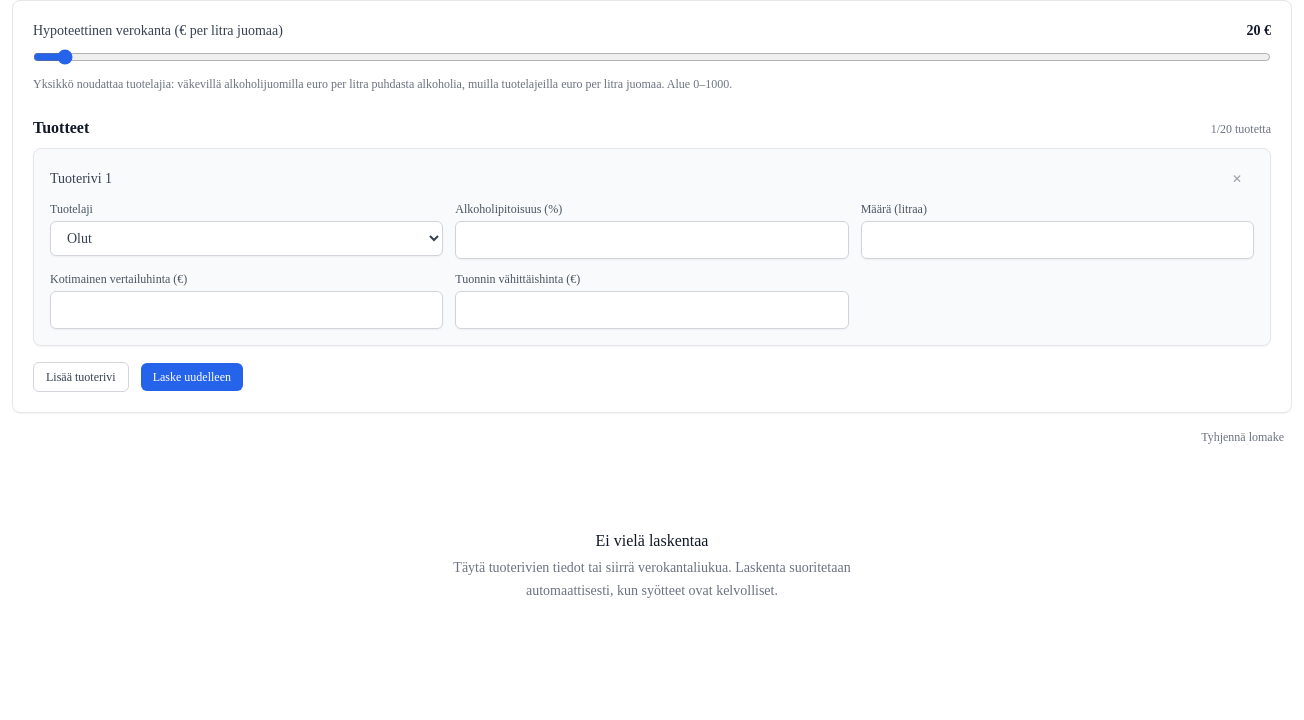
Test: WhatIfView form pass (task 4.7) › the reset affordance restores the draft to its defaults
// Drive the draft away from its defaults.
Set the slider with test id "what-if-rate-slider" to "500": {"x": 652, "y": 57} 33,49 -> 1271,65
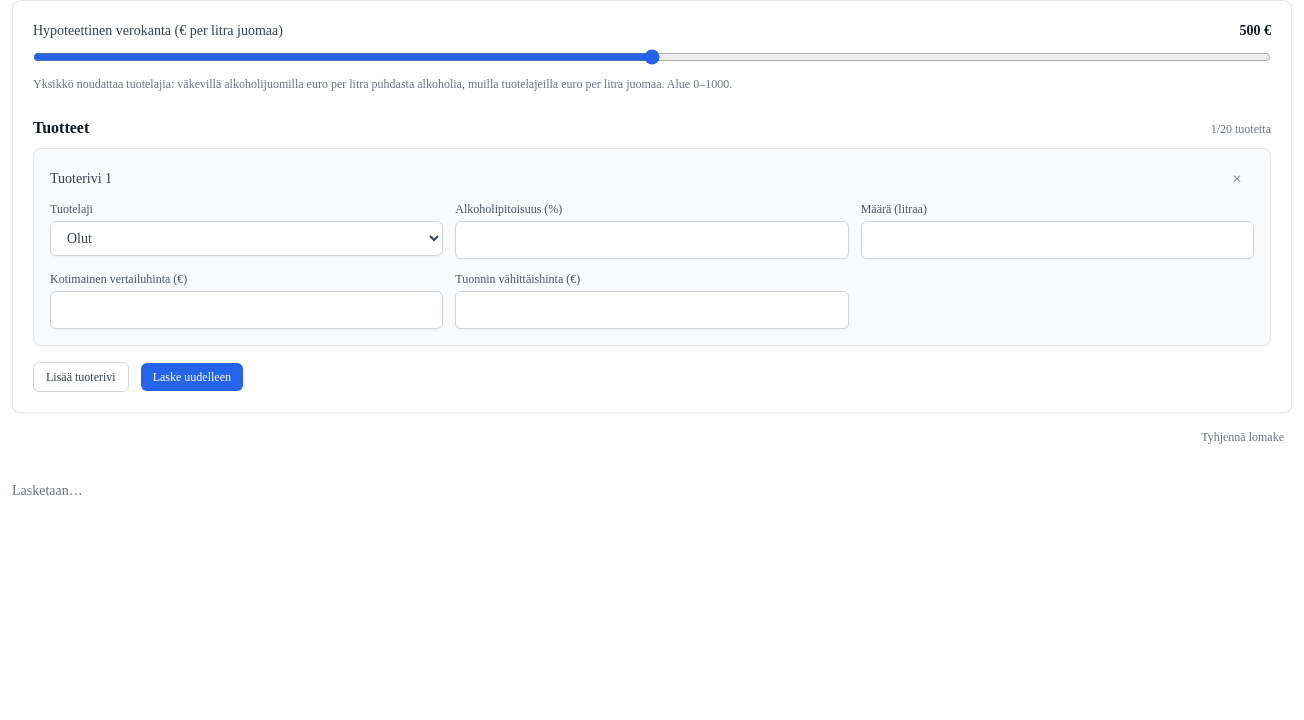
In the field labelled "Alkoholipitoisuus (%)": {"x": 652, "y": 240} 455,221 -> 849,259, type "150"
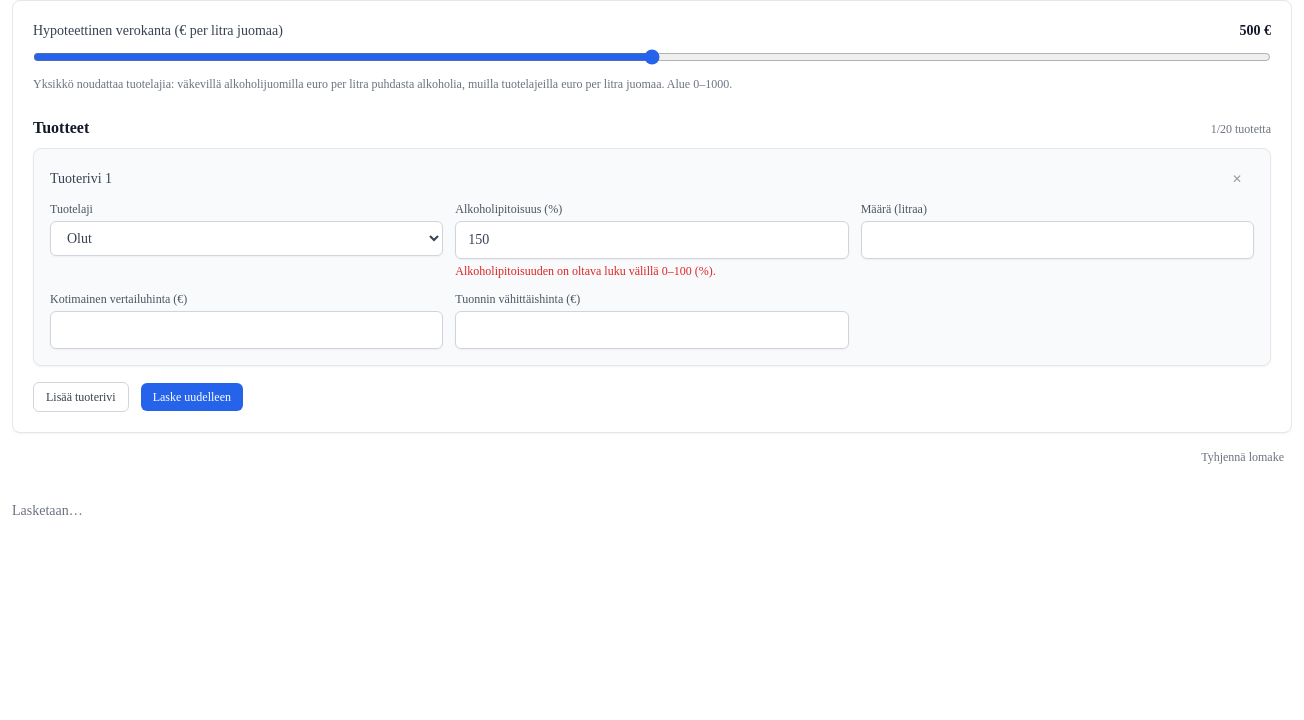
In the field labelled "Määrä (litraa)": {"x": 1057, "y": 240} 861,221 -> 1254,259, type "5"
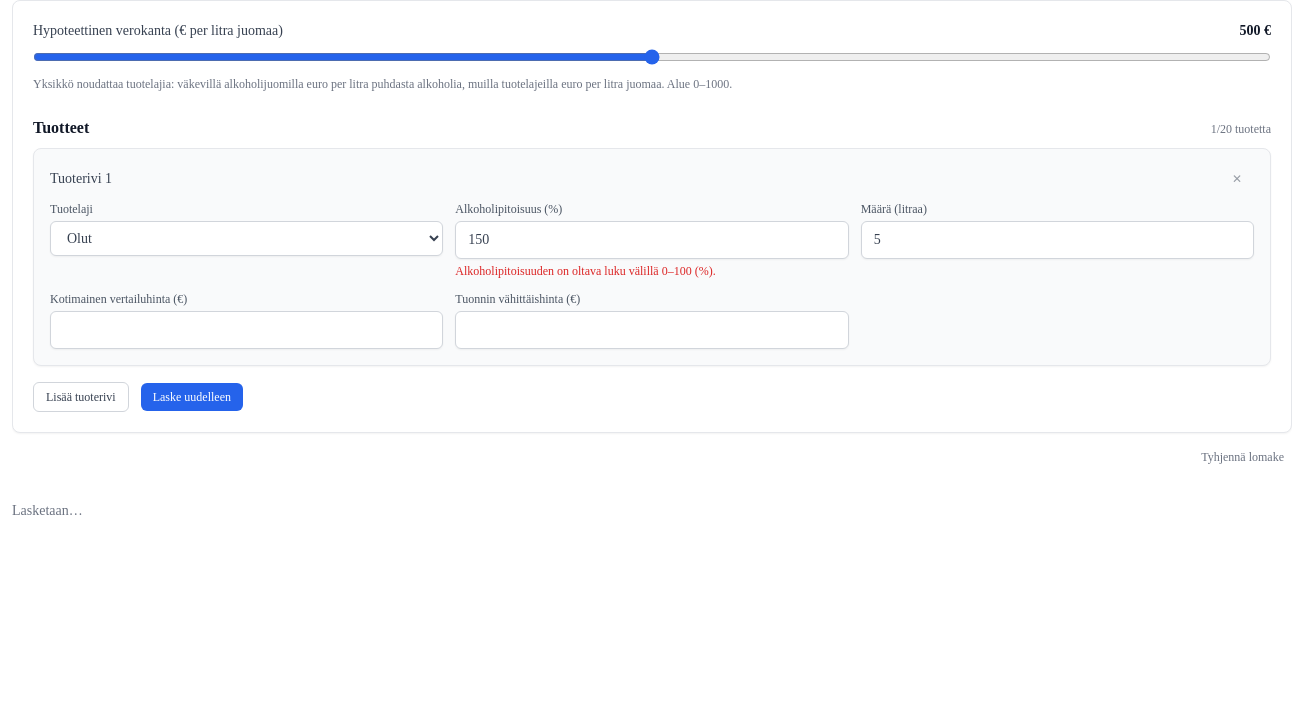
expect the text with test id "what-if-rate-value" reads "500 €": met, box 1240,23 -> 1271,38
Click the button with test id "what-if-reset": {"x": 1243, "y": 457} 1193,445 -> 1292,469
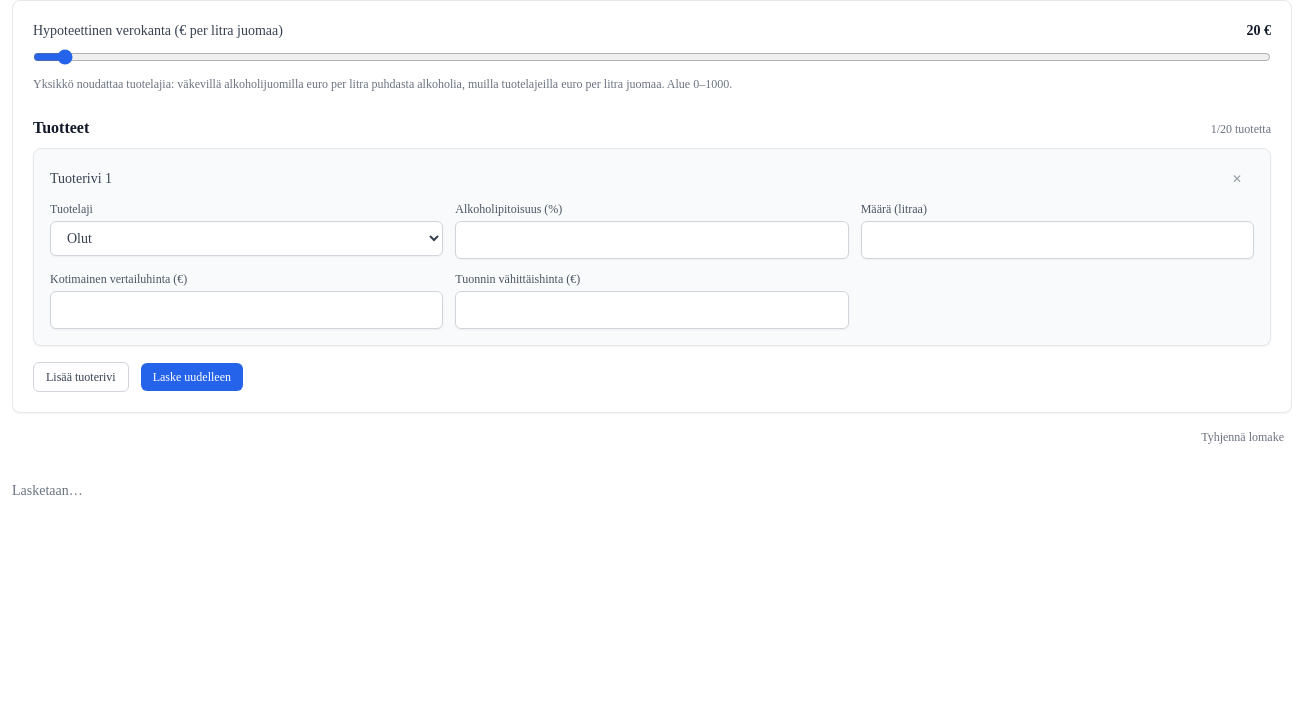
expect the text with test id "what-if-rate-value" reads "20 €": met, box 1246,23 -> 1271,38
expect the field labelled "Alkoholipitoisuus (%)" is empty: met, box 455,221 -> 849,259
expect the field labelled "Määrä (litraa)" is empty: met, box 861,221 -> 1254,259
